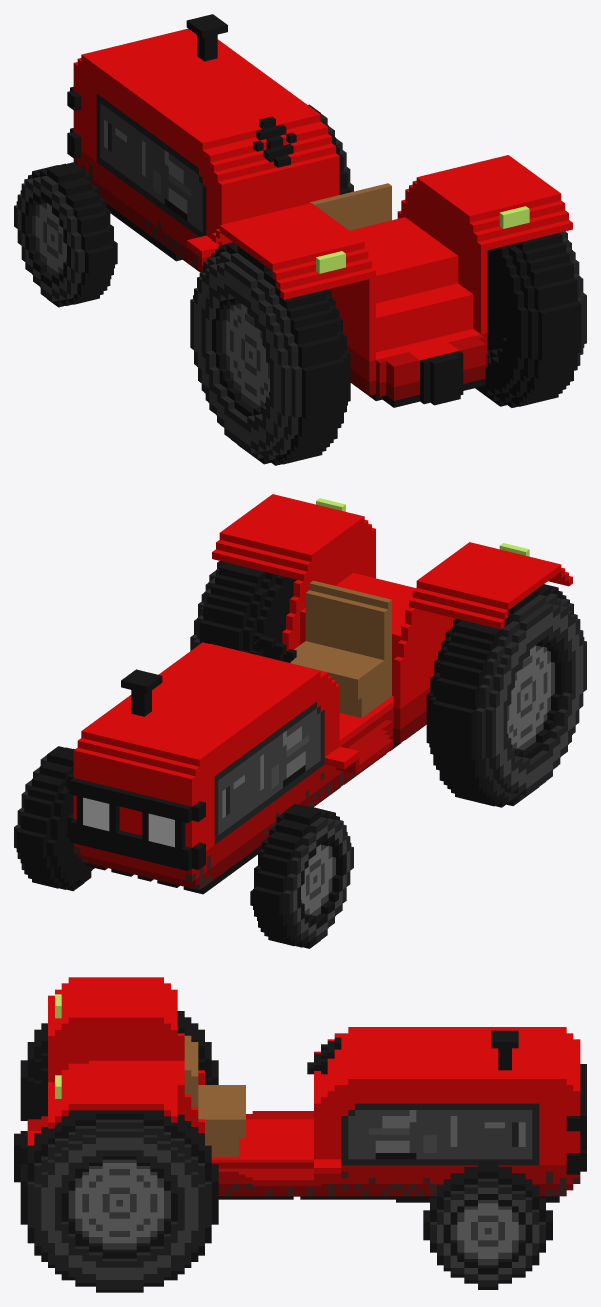
The picture shows the model from 3 angles, top to bottom: view 1: azimuth 30°, elevation 25°; view 2: azimuth 150°, elevation 25°; view 3: azimuth 270°, elevation 25°; orthographic projection. The views are drawn at different scales.
Parts seen in each view (by area): view 1: VOX; view 2: VOX; view 3: VOX.
Boxes of the visible parts, <box> form: VOX: <box>14,14,586,465</box>; VOX: <box>14,494,586,948</box>; VOX: <box>14,977,586,1292</box>.
Size of the model in its own units: 0.046 by 0.034 by 0.084.
